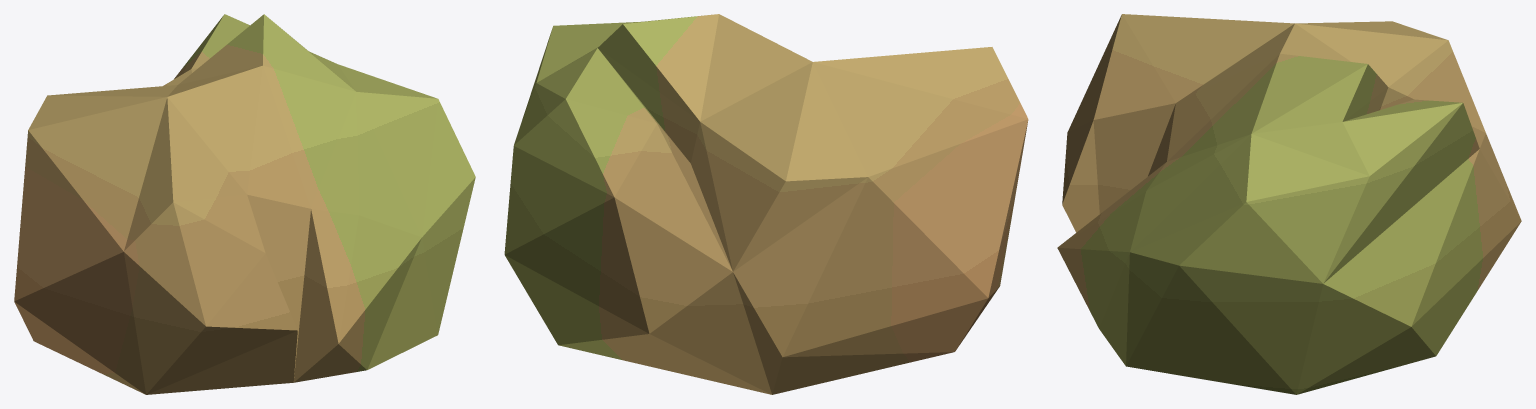
File: DC_Rock1.fbx
3 renders of one model, left to right at view 1: azimuth 30°, elevation 25°; view 2: azimuth 150°, elevation 25°; view 3: azimuth 270°, elevation 25°, orthographic. The views are drawn at different scales.
Visible parts, largest first — view 1: Rock1; view 2: Rock1; view 3: Rock1.
Boxes of the visible parts, bbox=[...] form: Rock1: bbox=[14, 14, 475, 394]; Rock1: bbox=[504, 14, 1028, 394]; Rock1: bbox=[1057, 14, 1521, 394].
Size of the model in its own units: 0.5115 by 0.3231 by 0.4726.
Materials: 1 (1 with a texture image).
